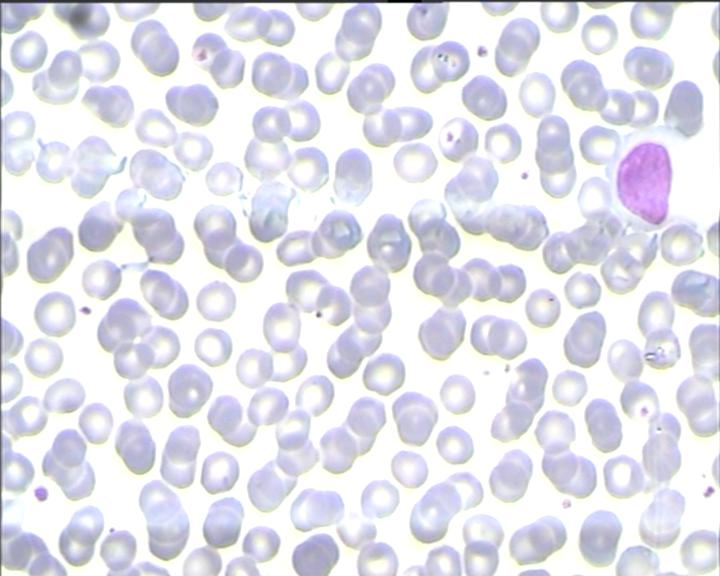mono: (607, 124, 692, 236)
